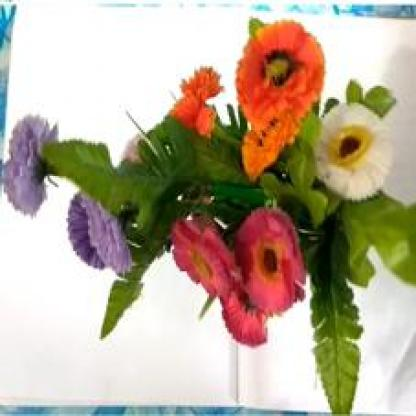flower: (13, 7, 414, 372)
